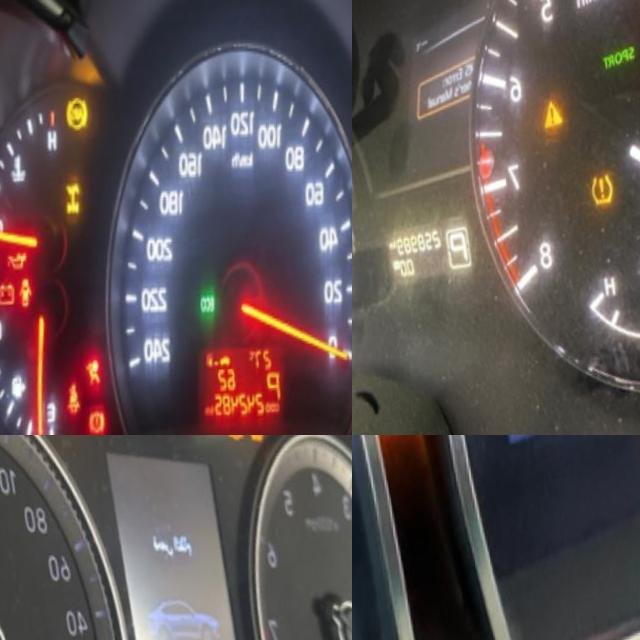Doors: (11, 276, 30, 313)
